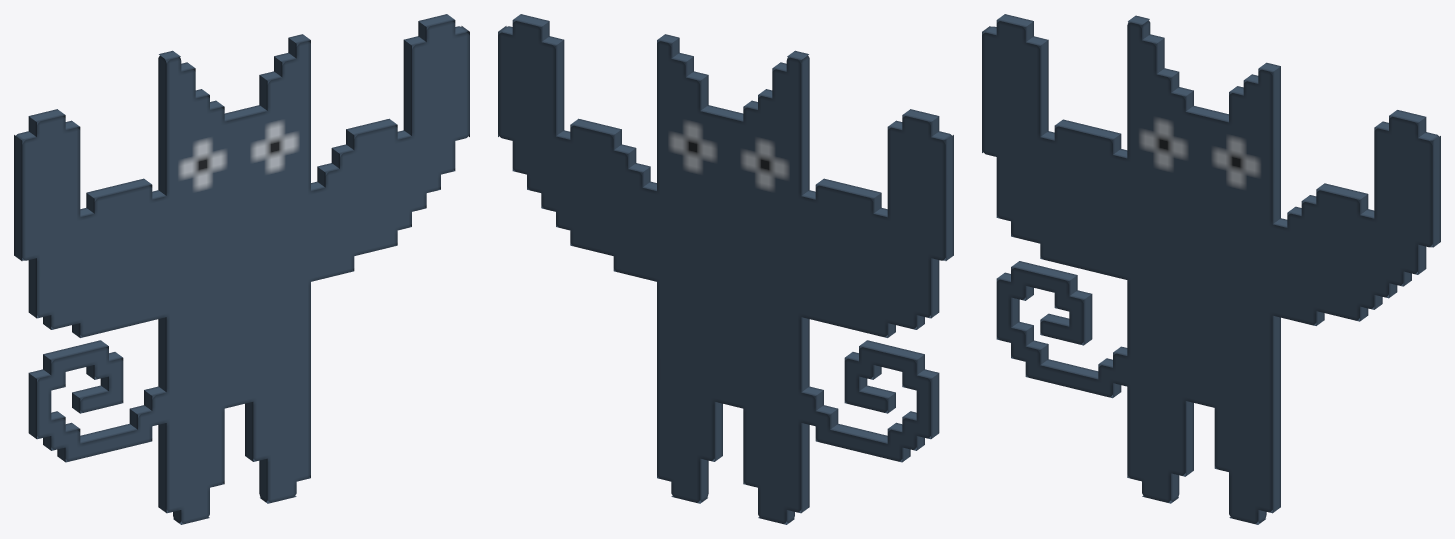
Rendered from cat8N.fbx.
3 views of the same model, side by side, from view 1: azimuth 30°, elevation 25°; view 2: azimuth 150°, elevation 25°; view 3: azimuth 330°, elevation 25° (orthographic).
Parts seen in each view (by area): view 1: generated; view 2: generated; view 3: generated.
Boxes of the visible parts, box(x1,y1,x2,y2) form: generated: box(14, 14, 469, 524); generated: box(498, 14, 953, 524); generated: box(982, 14, 1440, 524).
Size of the model in its own units: 310 by 310 by 10.
